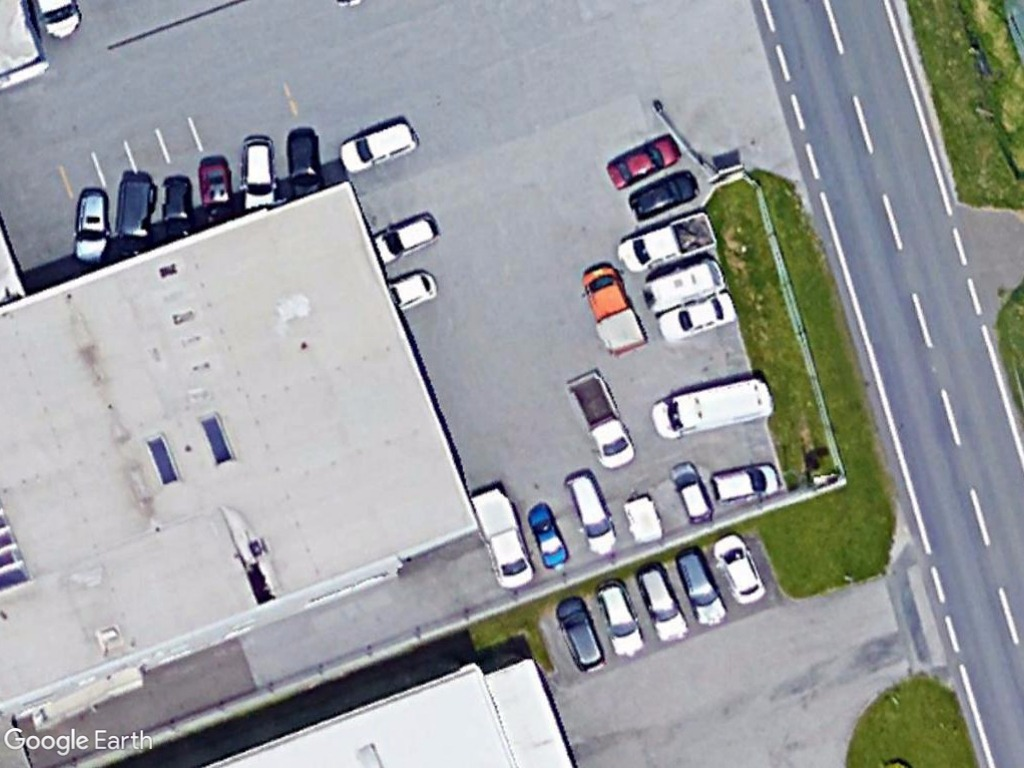car: (334, 115, 423, 178), (562, 467, 620, 556), (550, 589, 609, 676), (366, 204, 449, 265), (631, 559, 689, 645), (604, 132, 682, 194), (594, 573, 648, 662), (676, 544, 730, 632), (652, 289, 737, 344), (626, 164, 704, 221), (711, 531, 766, 610), (705, 458, 784, 509), (70, 181, 115, 270), (669, 458, 717, 530), (524, 500, 571, 572)
others: (558, 365, 638, 471), (612, 204, 714, 277), (581, 262, 650, 356)
van: (645, 369, 772, 442)
